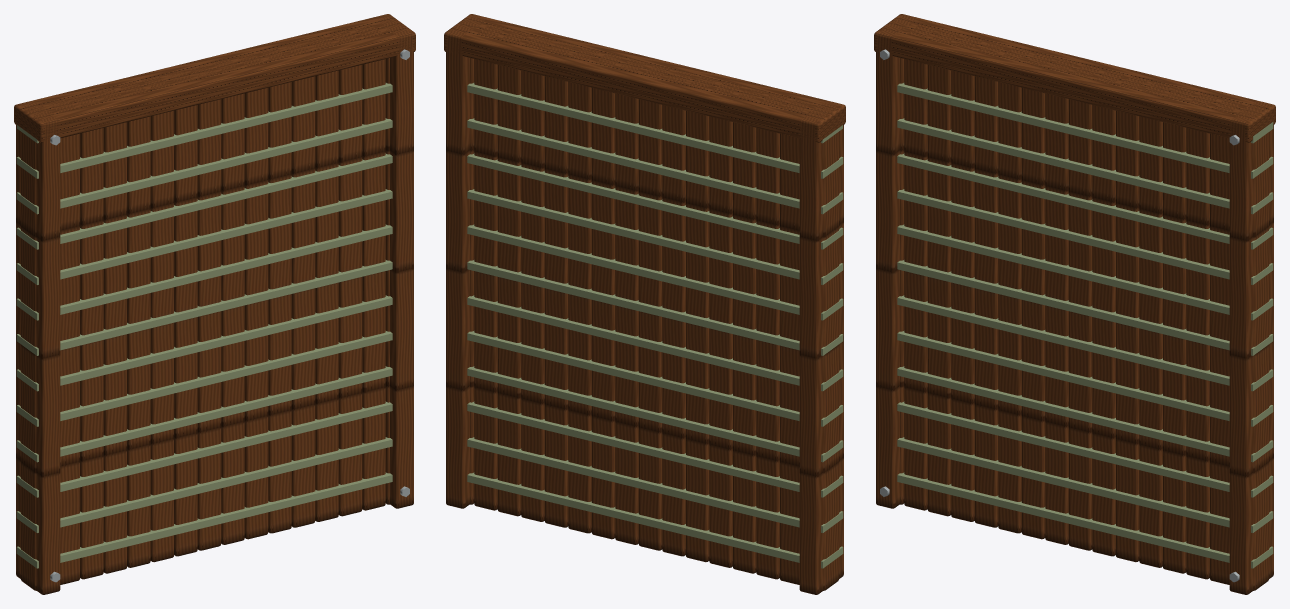
Rendered from prehistoric-survivor-settlement-woven-wall-b810ae02__23164.glb.
The picture shows the model from 3 angles, left to right: view 1: azimuth 30°, elevation 25°; view 2: azimuth 150°, elevation 25°; view 3: azimuth 330°, elevation 25°; orthographic projection.
Visible parts, largest first — view 1: woven-wall; view 2: woven-wall; view 3: woven-wall.
Boxes of the visible parts, x1,y1,x2,y2 form: woven-wall: (14, 14, 415, 594); woven-wall: (444, 14, 845, 594); woven-wall: (874, 14, 1275, 594).
Size of the model in its own units: 2 by 2.4 by 0.2774.
Materials: 3 (1 with a texture image).
